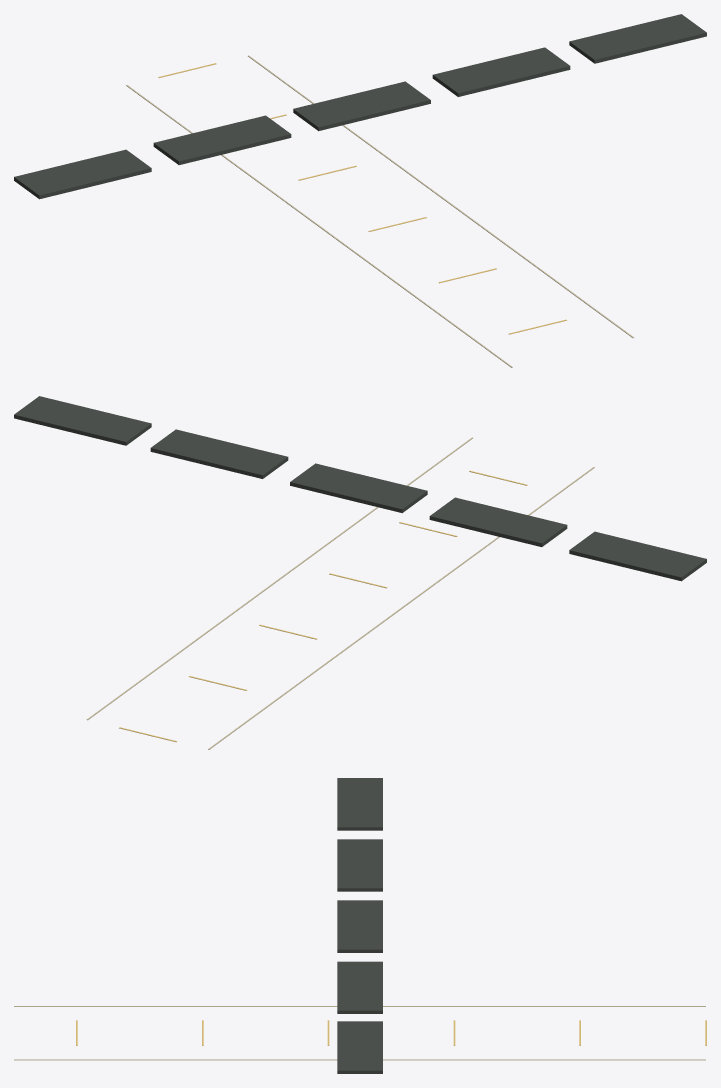
File: shelter_reception.glb
3 renders of one model, top to bottom at view 1: azimuth 30°, elevation 25°; view 2: azimuth 150°, elevation 25°; view 3: azimuth 270°, elevation 25°, orthographic. The views are drawn at different scales.
Visible parts, largest first — view 1: ceiling cassette.001, ceiling cassette.003, ceiling cassette.004, ceiling cassette, ceiling cassette.002, reception line right, reception line left; view 2: ceiling cassette.001, ceiling cassette.003, ceiling cassette.004, ceiling cassette, ceiling cassette.002, reception line right, reception line left; view 3: ceiling cassette, ceiling cassette.001, ceiling cassette.002, ceiling cassette.003, ceiling cassette.004, reception line right, reception line left.
Boxes of the visible parts, bbox=[...] form: ceiling cassette.001: bbox=[153, 115, 291, 164]; ceiling cassette.003: bbox=[432, 47, 570, 96]; ceiling cassette.004: bbox=[569, 14, 706, 63]; ceiling cassette: bbox=[14, 149, 151, 199]; ceiling cassette.002: bbox=[293, 81, 430, 131]; reception line right: bbox=[248, 55, 634, 338]; reception line left: bbox=[126, 85, 512, 367]; ceiling cassette.001: bbox=[429, 497, 567, 546]; ceiling cassette.003: bbox=[150, 429, 288, 478]; ceiling cassette.004: bbox=[14, 396, 151, 445]; ceiling cassette: bbox=[569, 531, 706, 581]; ceiling cassette.002: bbox=[290, 463, 427, 513]; reception line right: bbox=[86, 437, 472, 720]; reception line left: bbox=[208, 467, 594, 749]; ceiling cassette: bbox=[337, 778, 382, 830]; ceiling cassette.001: bbox=[337, 839, 382, 891]; ceiling cassette.002: bbox=[337, 900, 382, 952]; ceiling cassette.003: bbox=[337, 961, 382, 1013]; ceiling cassette.004: bbox=[337, 1021, 382, 1073]; reception line right: bbox=[14, 1059, 705, 1060]; reception line left: bbox=[14, 1006, 705, 1006].
Bounding box in the file's own units: 22 × 3.52 × 22.03.
